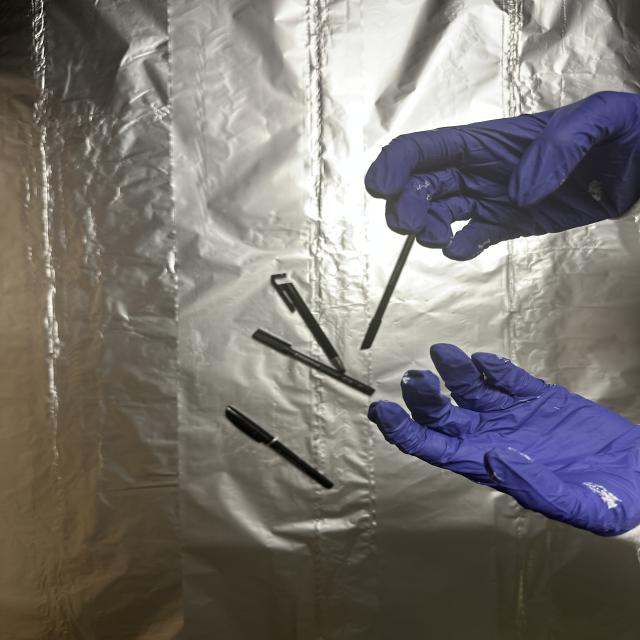gloves_contaminated: (368, 343, 640, 540), (365, 91, 640, 261)
